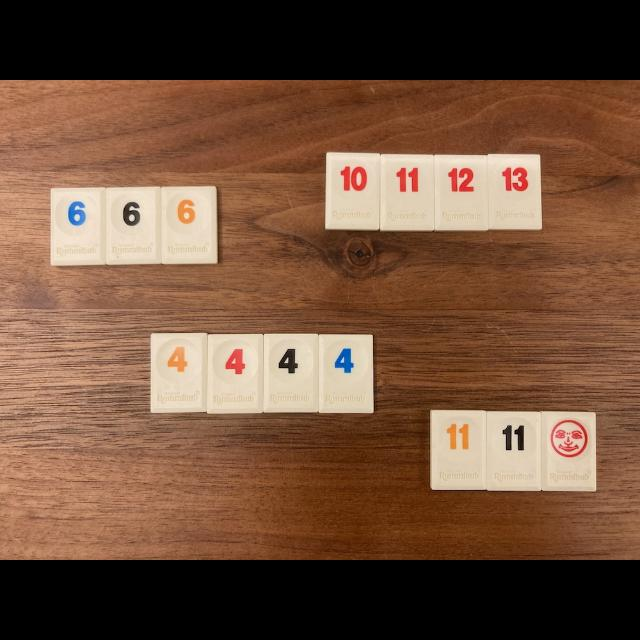black_11: (486, 411, 540, 491)
black_4: (264, 334, 319, 412)
black_6: (106, 186, 161, 265)
blue_4: (319, 335, 374, 413)
blue_6: (50, 188, 105, 265)
joker: (540, 411, 595, 491)
orange_11: (430, 410, 486, 490)
orange_4: (151, 332, 208, 412)
orange_6: (161, 186, 218, 263)
red_10: (325, 152, 380, 230)
red_11: (380, 155, 435, 231)
red_12: (434, 155, 489, 231)
red_13: (488, 154, 541, 230)
red_4: (208, 334, 264, 414)
